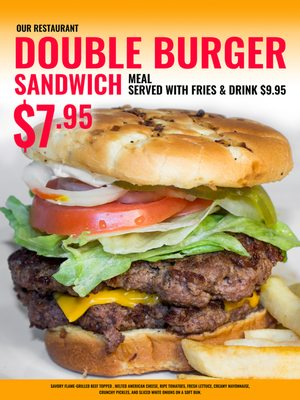soup: (0, 103, 298, 368)
